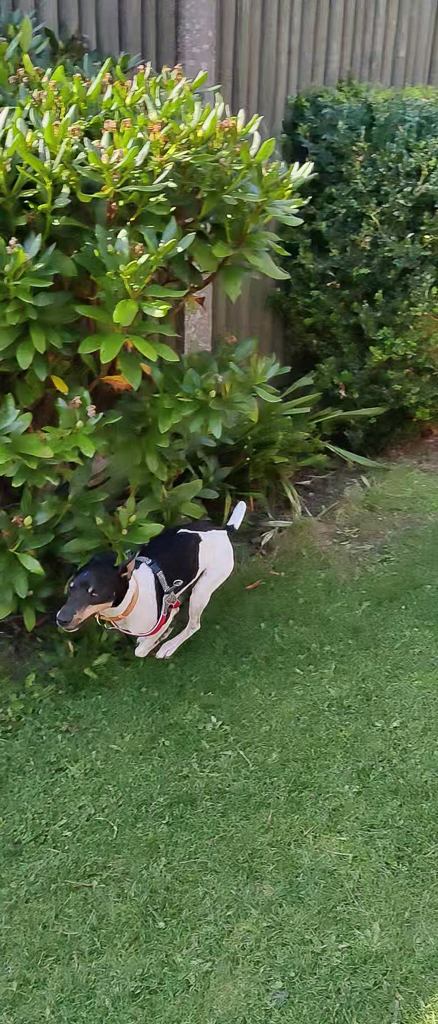Dog: (36, 481, 261, 678)
